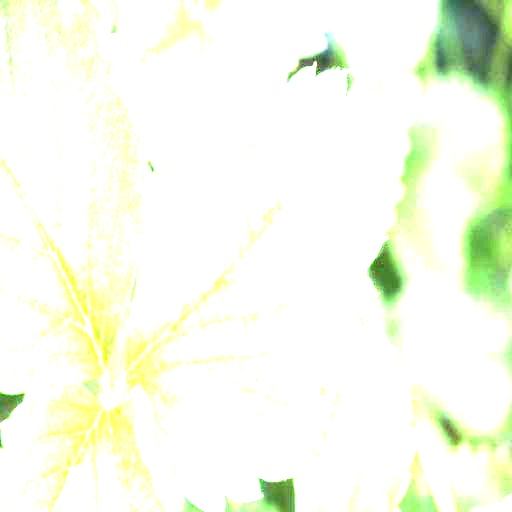Powdery Mildew Leaf: (107, 60, 398, 511), (0, 365, 179, 511)
